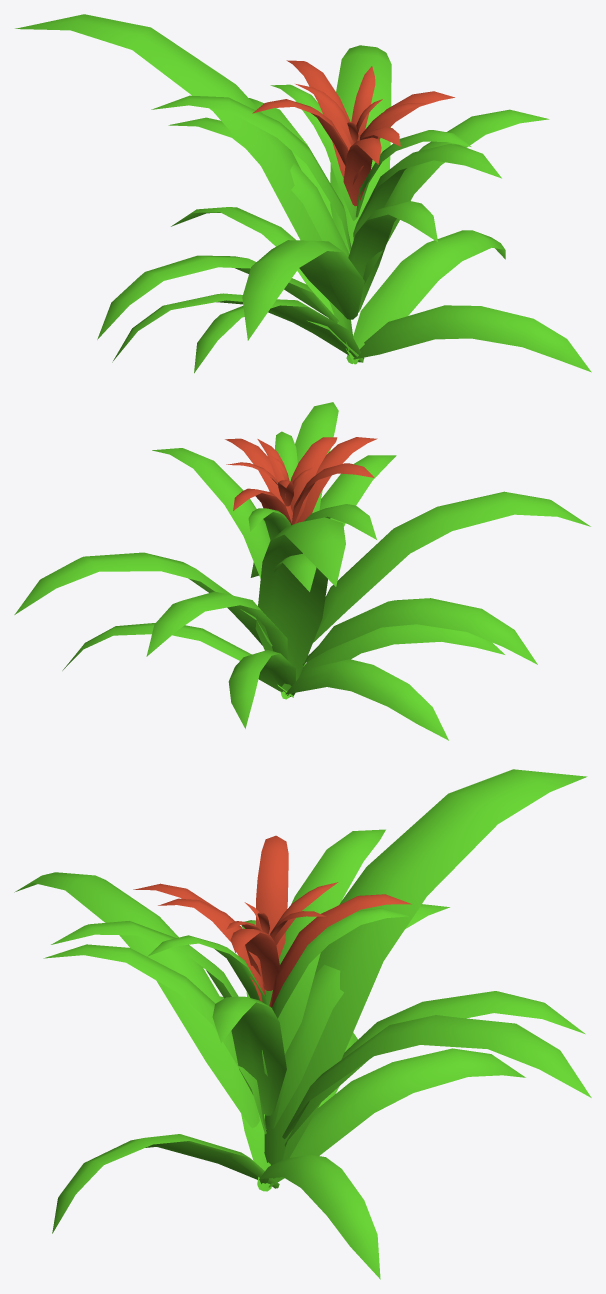
File: Bromelia_01.fbx
3 renders of one model, top to bottom at view 1: azimuth 30°, elevation 25°; view 2: azimuth 150°, elevation 25°; view 3: azimuth 270°, elevation 25°, orthographic. The views are drawn at different scales.
Visible parts, largest first — view 1: Bromelia_01, Brom_01_flower; view 2: Bromelia_01, Brom_01_flower; view 3: Bromelia_01, Brom_01_flower.
Part boxes in pixels (x1=…): Bromelia_01: x1=15, y1=14, x2=591, y2=373; Brom_01_flower: x1=252, y1=60, x2=454, y2=206; Bromelia_01: x1=14, y1=402, x2=590, y2=740; Brom_01_flower: x1=225, y1=437, x2=377, y2=525; Bromelia_01: x1=14, y1=769, x2=591, y2=1279; Brom_01_flower: x1=133, y1=835, x2=411, y2=1007.
Size of the model in its own units: 1.37 by 0.8309 by 1.31.
